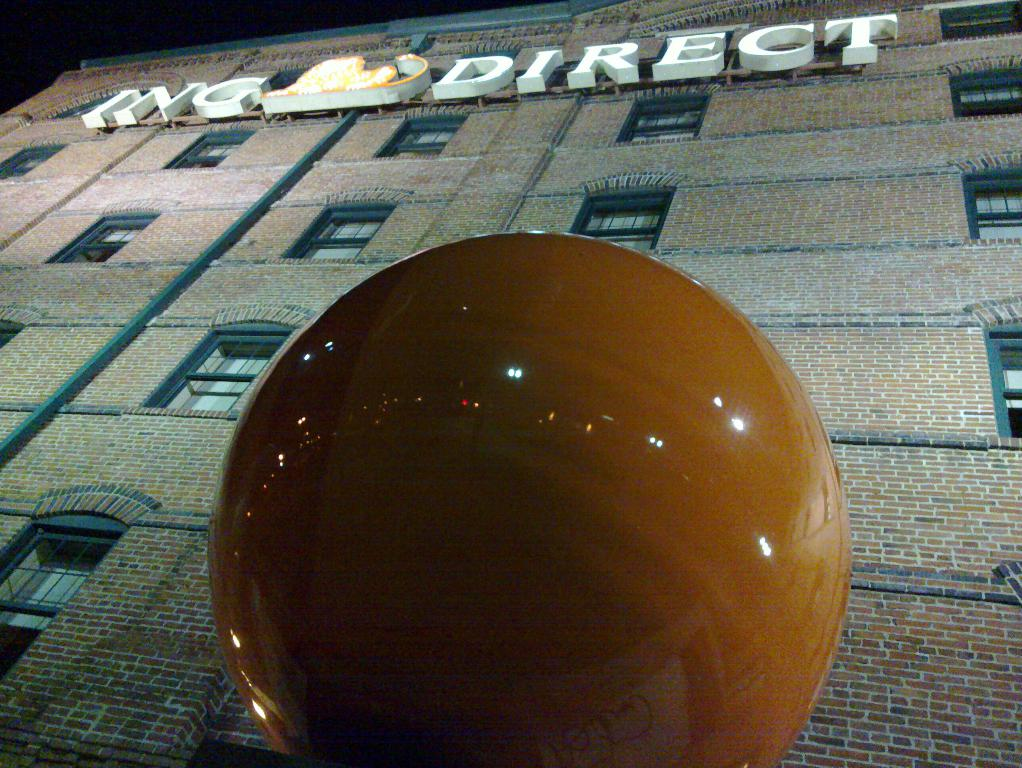Ball: (208, 233, 855, 767)
